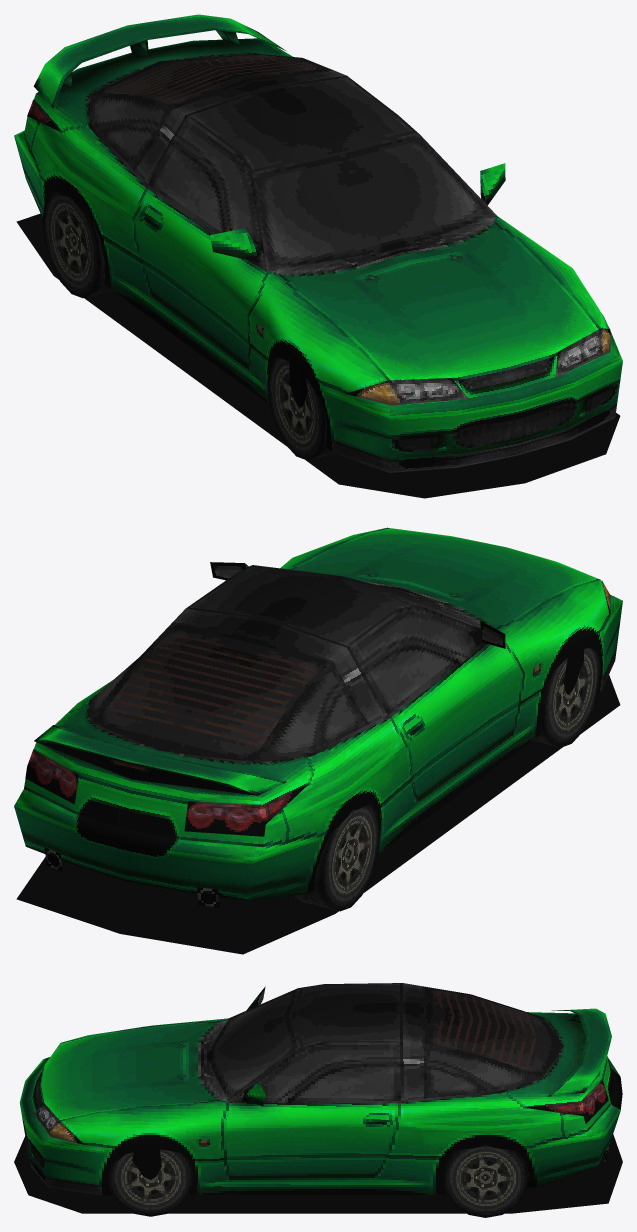
3 renders of one model, top to bottom at view 1: azimuth 30°, elevation 25°; view 2: azimuth 150°, elevation 25°; view 3: azimuth 270°, elevation 25°, orthographic. The views are drawn at different scales.
Visible parts, largest first — view 1: BX300_5, Shadow_0, Wheel_RR_4, Wheel_FR_2; view 2: BX300_5, Shadow_0, Wheel_RR_4, Wheel_FR_2; view 3: BX300_5, Shadow_0, Wheel_RL_3, Wheel_FL_1.
Part boxes in pixels (left/top/right/bottom): BX300_5: left=14, top=14, right=622, bottom=472; Shadow_0: left=16, top=213, right=620, bottom=498; Wheel_RR_4: left=42, top=190, right=112, bottom=298; Wheel_FR_2: left=267, top=357, right=334, bottom=459; BX300_5: left=14, top=527, right=622, bottom=907; Shadow_0: left=16, top=675, right=620, bottom=954; Wheel_RR_4: left=291, top=803, right=380, bottom=911; Wheel_FR_2: left=532, top=648, right=600, bottom=746; BX300_5: left=19, top=983, right=622, bottom=1195; Shadow_0: left=14, top=1134, right=622, bottom=1213; Wheel_RL_3: left=442, top=1145, right=529, bottom=1217; Wheel_FL_1: left=107, top=1149, right=194, bottom=1216.
Size of the model in its own units: 1.91 by 1.32 by 4.54.
Materials: 1 (1 with a texture image).
